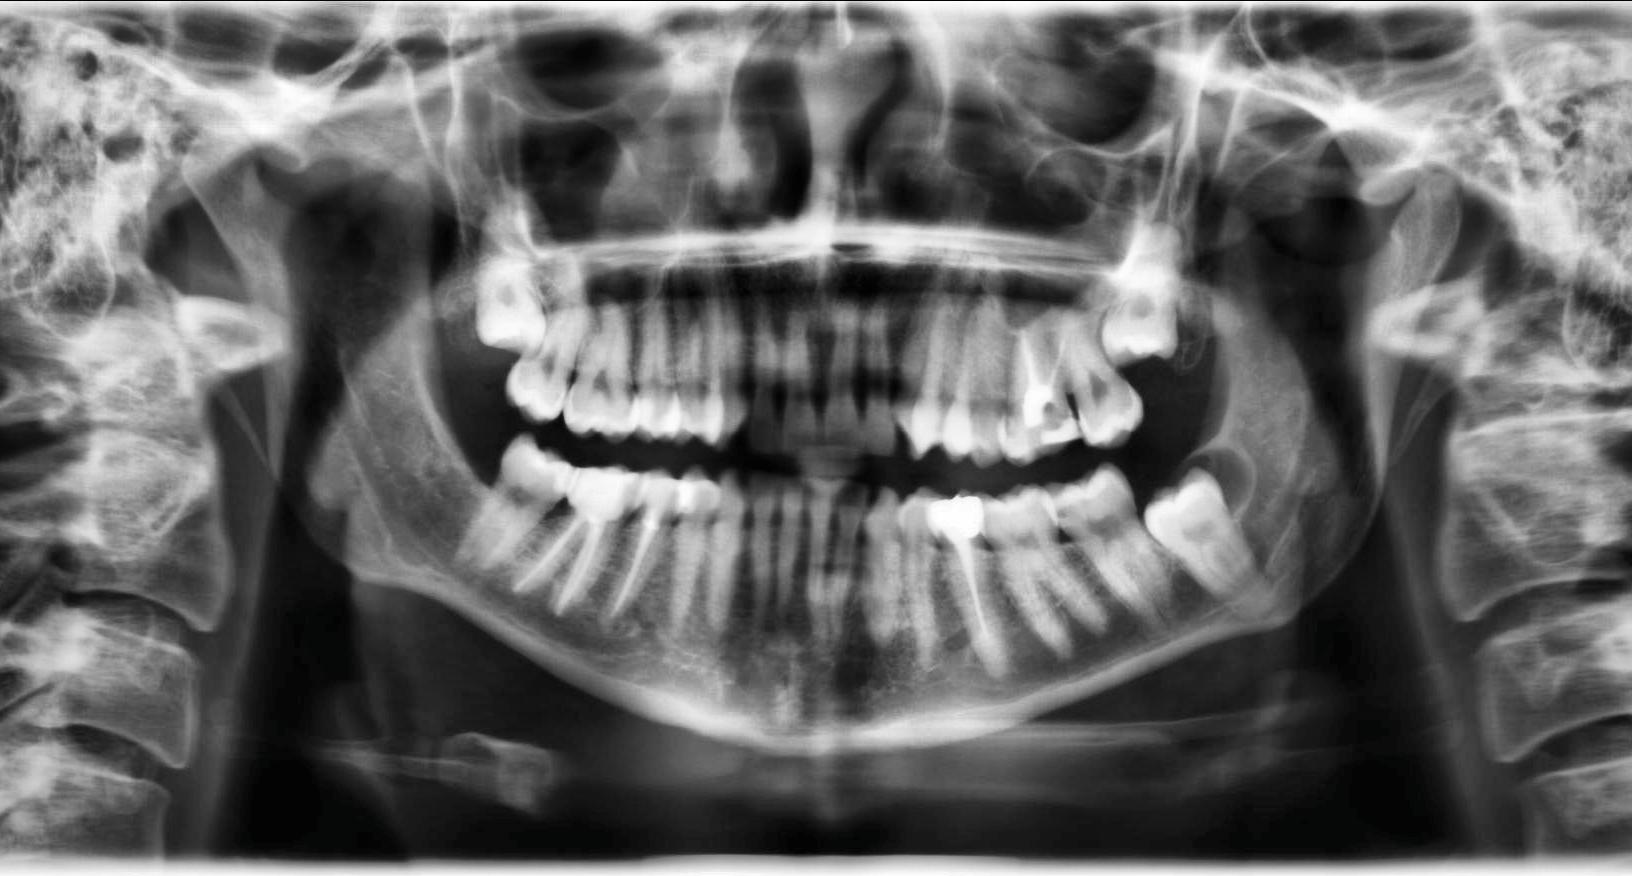enflamatuar: (1127, 447, 1257, 552)
